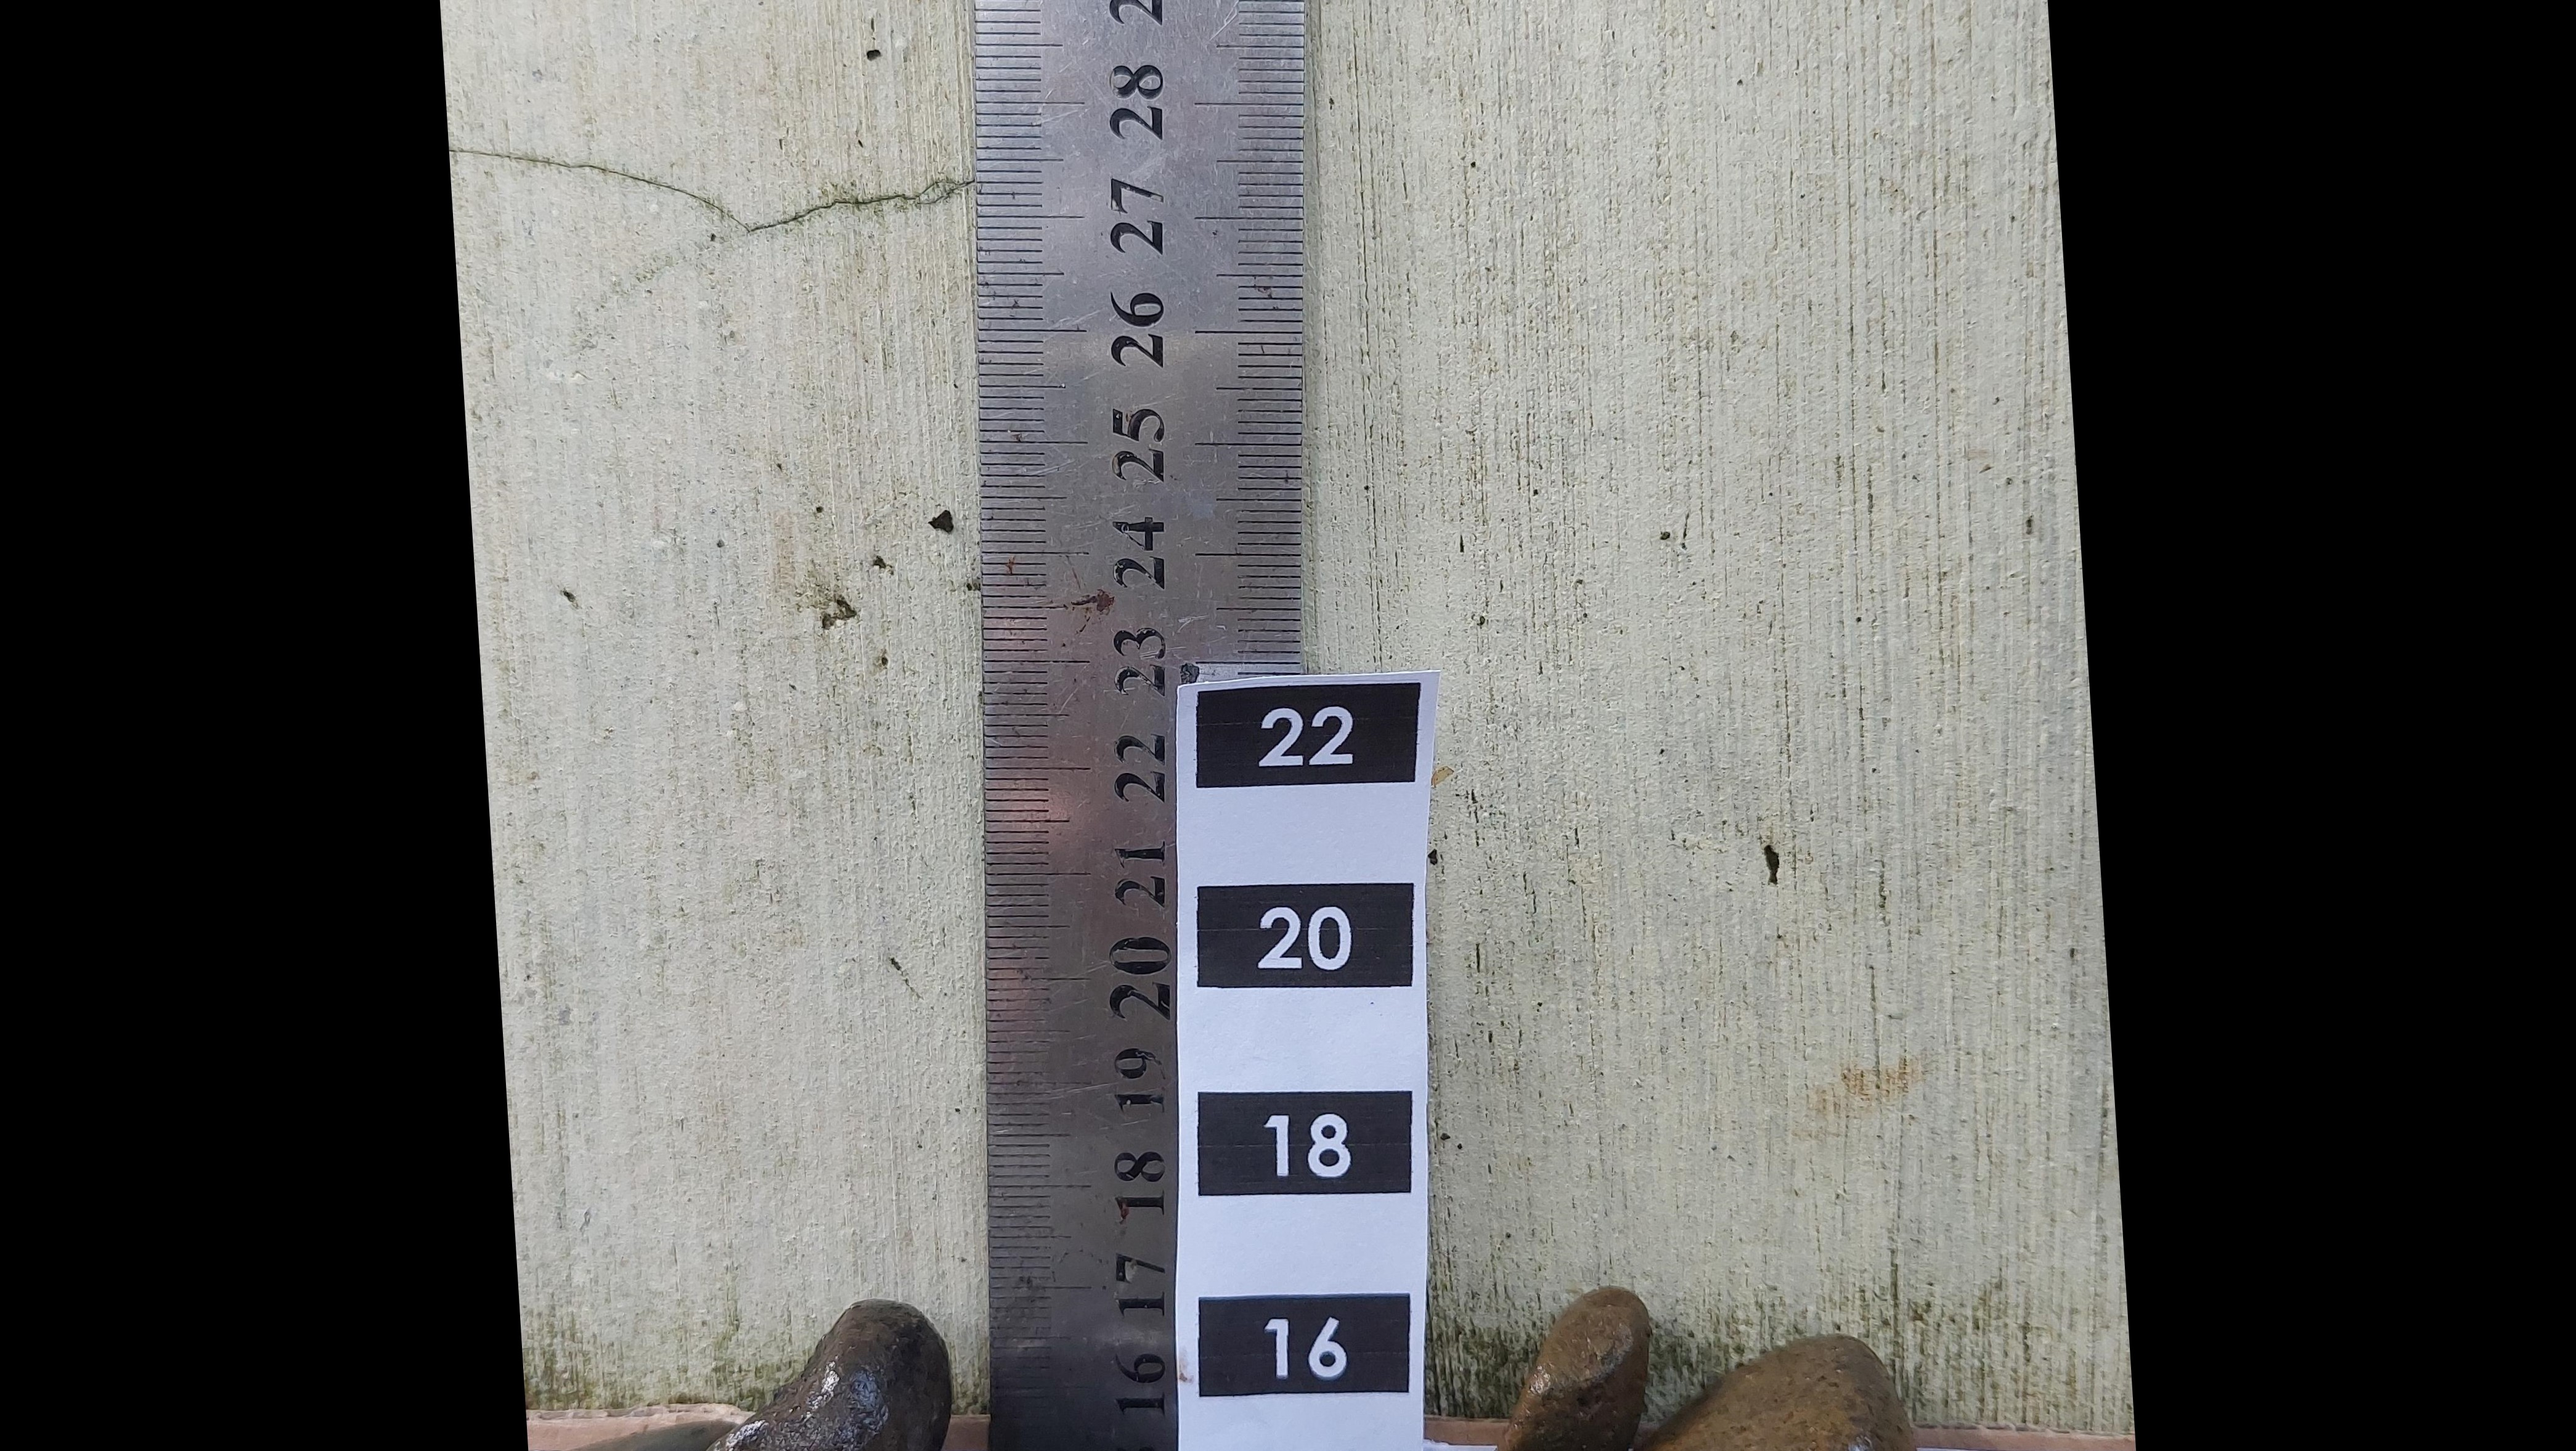kotak_2x1: (1198, 1092, 1412, 1196), (1192, 885, 1414, 986), (1192, 687, 1414, 786), (1198, 1295, 1412, 1394)
